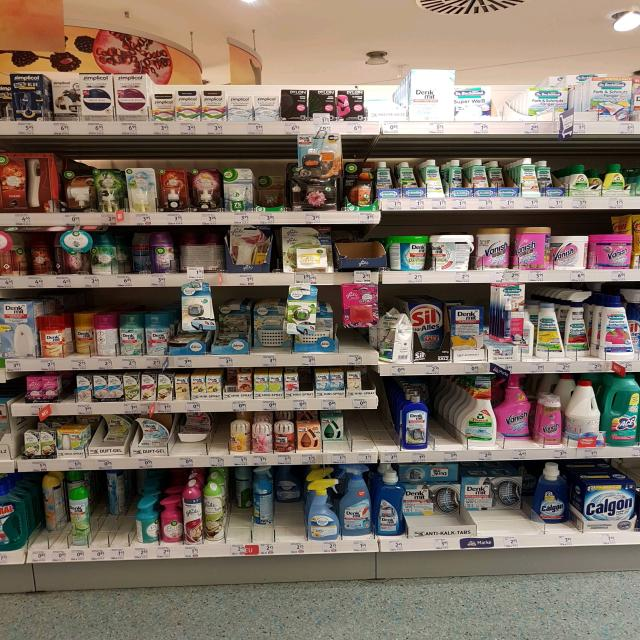void: (350, 414, 398, 464), (342, 230, 381, 286), (432, 390, 458, 462), (494, 82, 527, 138)
